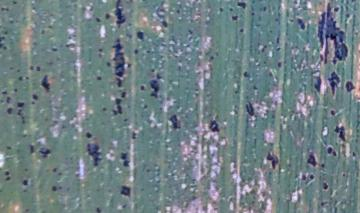tarspot: (316, 2, 348, 66), (111, 35, 124, 89), (85, 141, 103, 167), (326, 70, 341, 97), (265, 149, 280, 170), (113, 1, 124, 29), (38, 74, 52, 93), (110, 97, 123, 117), (148, 79, 160, 100), (333, 125, 347, 142), (168, 113, 181, 131), (1, 30, 11, 53), (207, 118, 221, 134), (119, 184, 133, 200), (15, 107, 26, 126), (119, 151, 131, 168), (244, 99, 255, 117), (295, 16, 306, 32), (306, 152, 317, 167), (313, 75, 322, 93), (344, 80, 356, 93), (38, 147, 52, 158), (26, 143, 36, 155), (324, 145, 334, 156), (236, 1, 248, 10), (136, 30, 145, 42), (159, 19, 169, 29), (5, 106, 14, 116), (242, 68, 250, 79), (15, 100, 25, 108), (318, 199, 329, 206), (85, 130, 93, 139), (331, 5, 340, 13), (230, 14, 239, 22), (138, 83, 146, 92), (120, 90, 128, 99), (96, 47, 102, 59), (155, 71, 162, 81), (49, 46, 59, 53), (131, 130, 137, 141), (1, 6, 12, 12), (299, 173, 307, 181), (4, 144, 12, 152), (276, 60, 283, 69), (50, 184, 57, 193), (322, 181, 328, 191), (103, 12, 110, 20), (94, 16, 101, 24), (31, 93, 39, 100), (95, 206, 103, 213), (21, 178, 28, 186), (51, 166, 58, 174), (101, 105, 107, 114), (141, 103, 150, 109), (274, 46, 283, 52), (22, 166, 31, 172), (350, 151, 357, 158), (186, 27, 193, 34), (132, 47, 139, 54), (1, 88, 8, 95), (28, 64, 35, 71), (332, 149, 338, 157), (95, 75, 103, 81), (35, 65, 41, 73), (17, 74, 23, 82), (329, 108, 335, 115), (237, 27, 244, 33), (104, 60, 110, 67), (175, 8, 181, 15), (4, 169, 10, 176), (4, 176, 11, 182), (250, 10, 256, 17), (309, 173, 314, 181), (218, 6, 223, 14), (150, 67, 155, 75), (12, 88, 20, 93), (320, 162, 326, 168), (340, 171, 346, 177), (209, 55, 215, 61), (227, 6, 233, 11), (11, 1, 16, 6)
